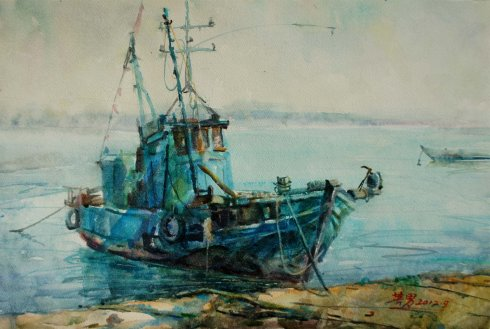otherboat: (53, 88, 390, 284)
